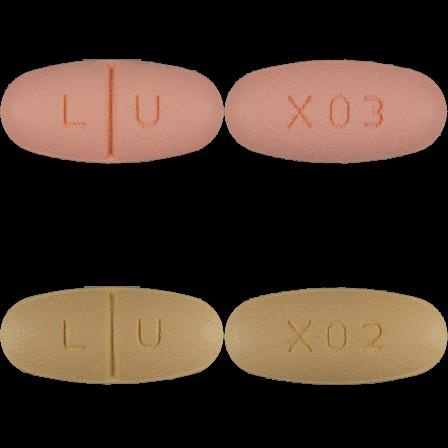50436-5605: (0, 0, 224, 224)
